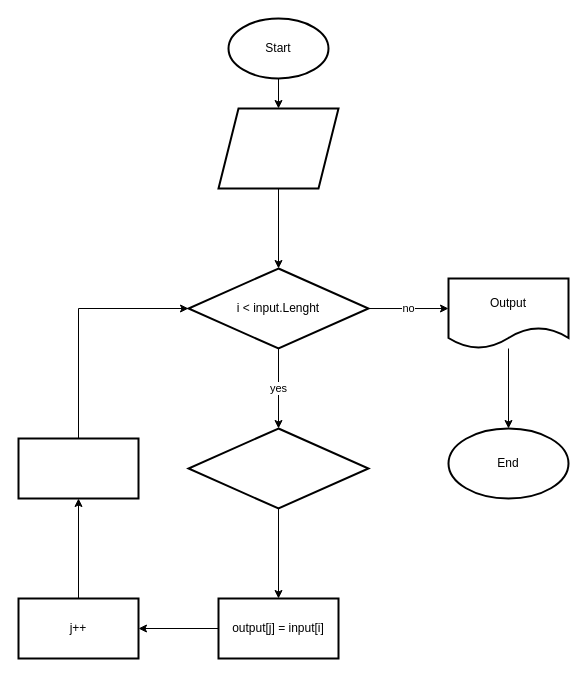
Image size: 586x676. Some labels were removed from this diagram. Here are the shapes that lost their labels. From the top down, the centre of each, then its label:
At (x=278, y=148): "str[] input str[] output int i = 0 int j = 0 int a = 3".
At (x=78, y=468): "i++".
At (x=278, y=468): "i <= a".
